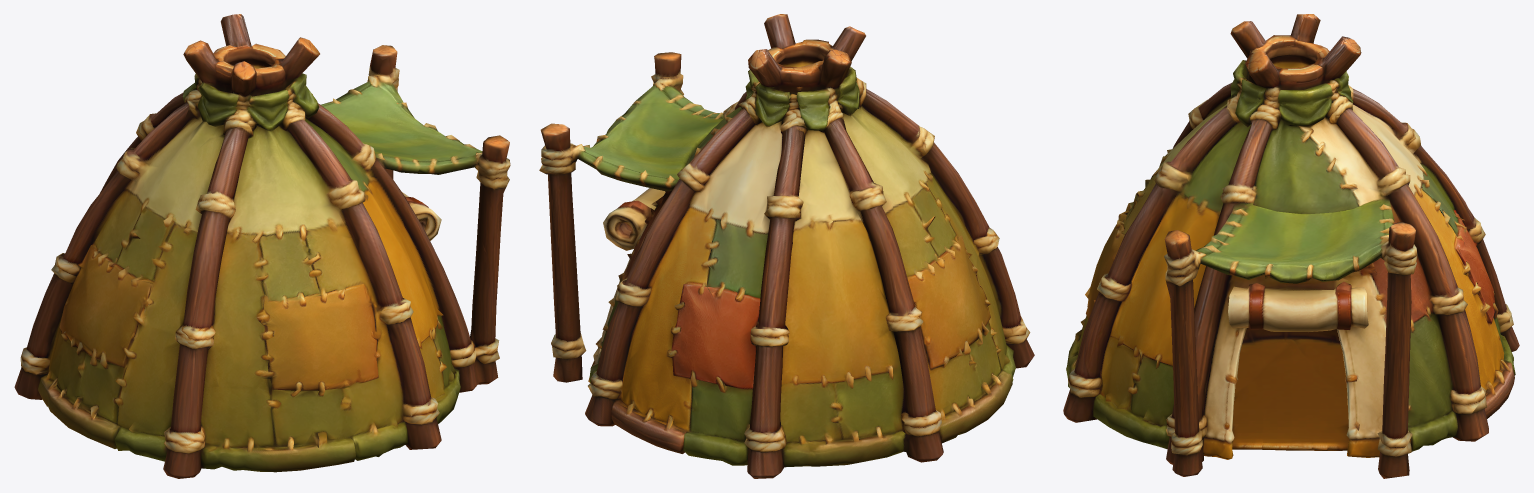
Rendered from W_Tent_B_raw.glb.
3 views of the same model, side by side, from view 1: azimuth 30°, elevation 25°; view 2: azimuth 150°, elevation 25°; view 3: azimuth 270°, elevation 25° (orthographic).
Visible parts, largest first — view 1: tripo_node_873ce821-3e59-4cca-bc15-827f06f87c57; view 2: tripo_node_873ce821-3e59-4cca-bc15-827f06f87c57; view 3: tripo_node_873ce821-3e59-4cca-bc15-827f06f87c57.
Boxes of the visible parts, bbox=[...] form: tripo_node_873ce821-3e59-4cca-bc15-827f06f87c57: bbox=[14, 14, 510, 478]; tripo_node_873ce821-3e59-4cca-bc15-827f06f87c57: bbox=[539, 14, 1034, 478]; tripo_node_873ce821-3e59-4cca-bc15-827f06f87c57: bbox=[1063, 14, 1519, 478].
Bounding box in the file's own units: 0.9973 × 0.8566 × 1.
1 material, 1 textured.
